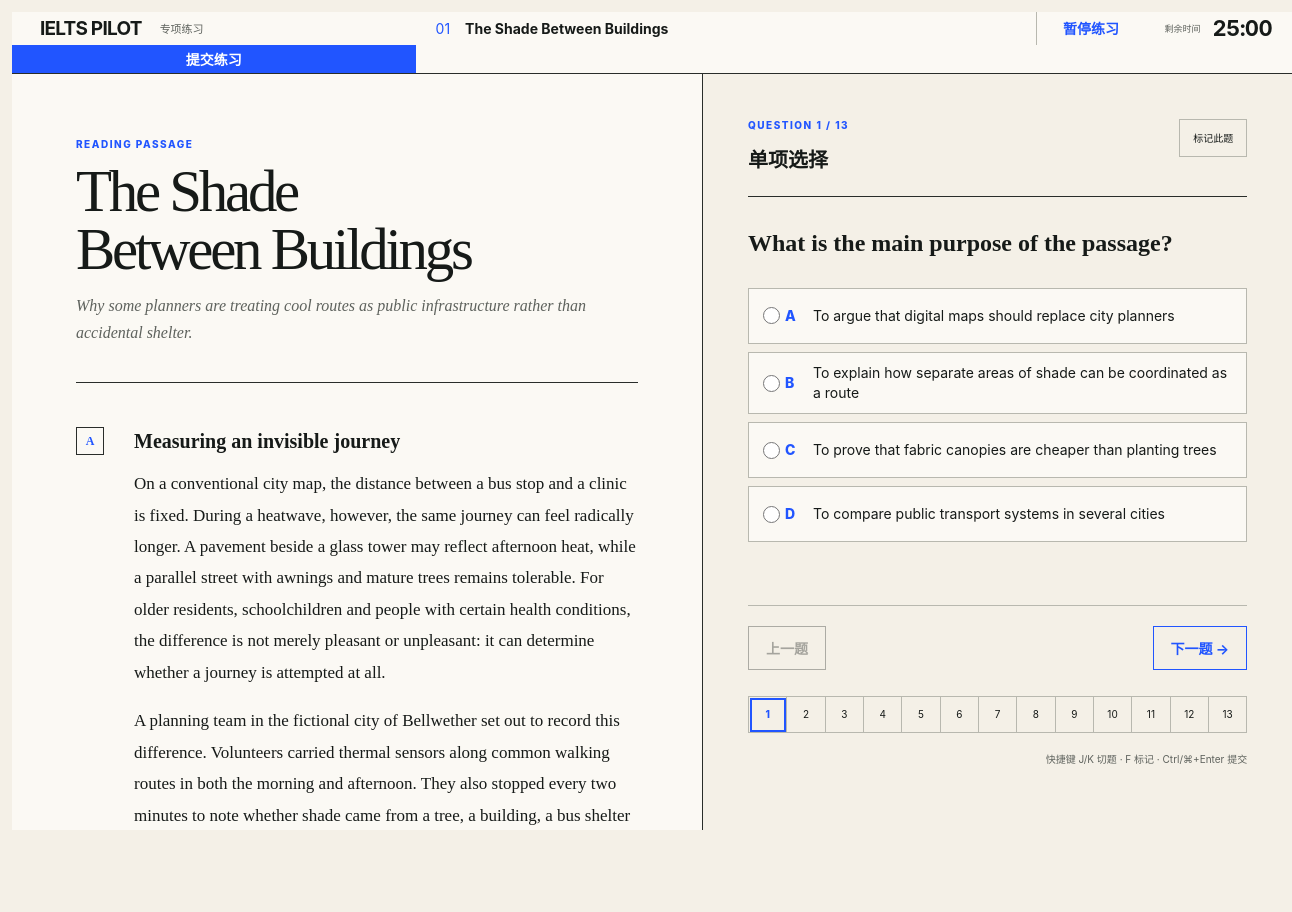
Test: PracticeView focused workflow › shares the annotation reader, pauses the timer and supports question shortcuts
Check: the element that starts with "Reading passage" is shown, box top-left (12, 74), bottom-right (703, 830)
Click the button with test id "pause-practice" at (1090,28), box top-left (1036, 12), bottom-right (1144, 44)
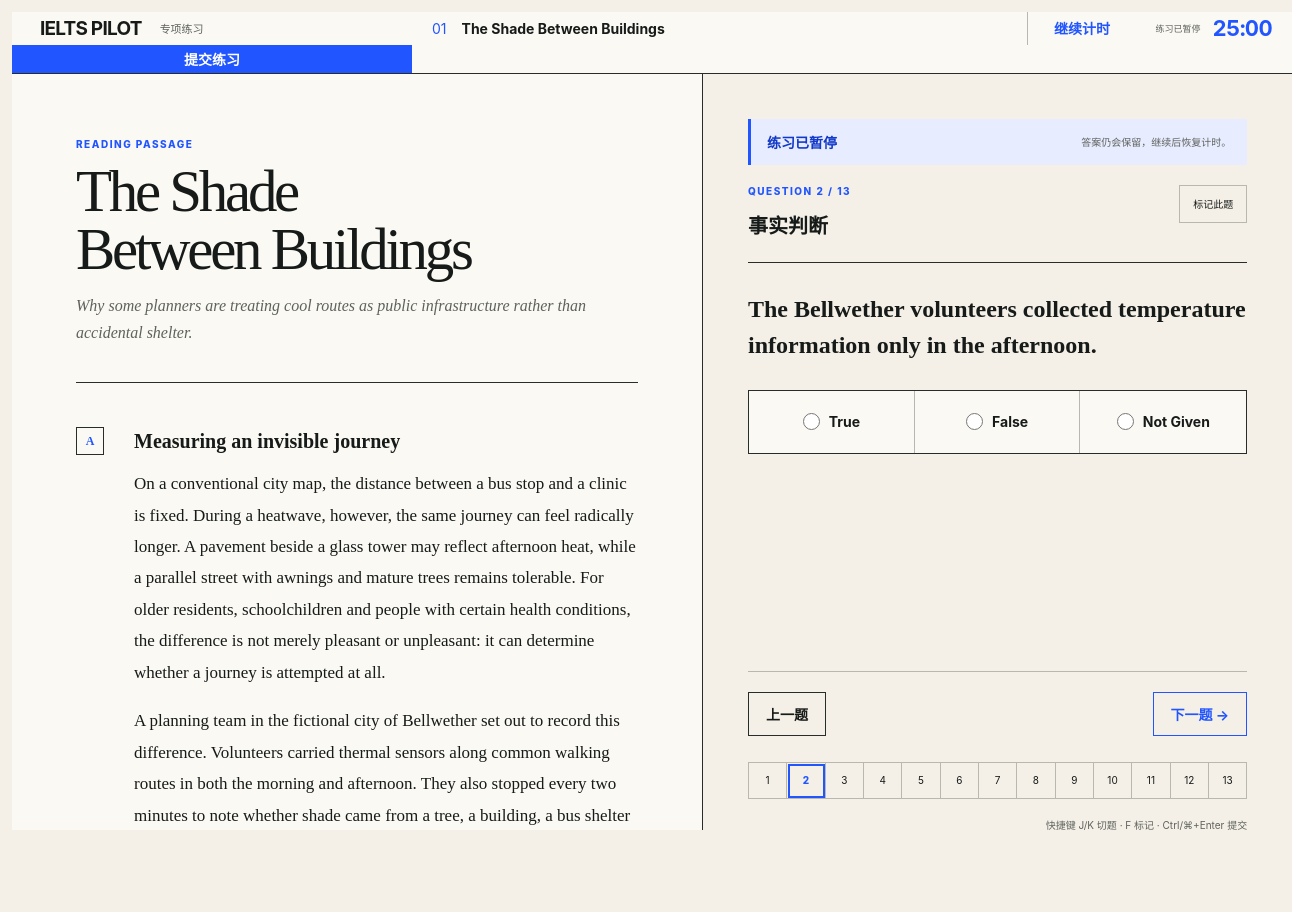
Check: the element that starts with "IELTS PILOT" shows "练习已暂停", box top-left (1156, 23), bottom-right (1200, 34)
